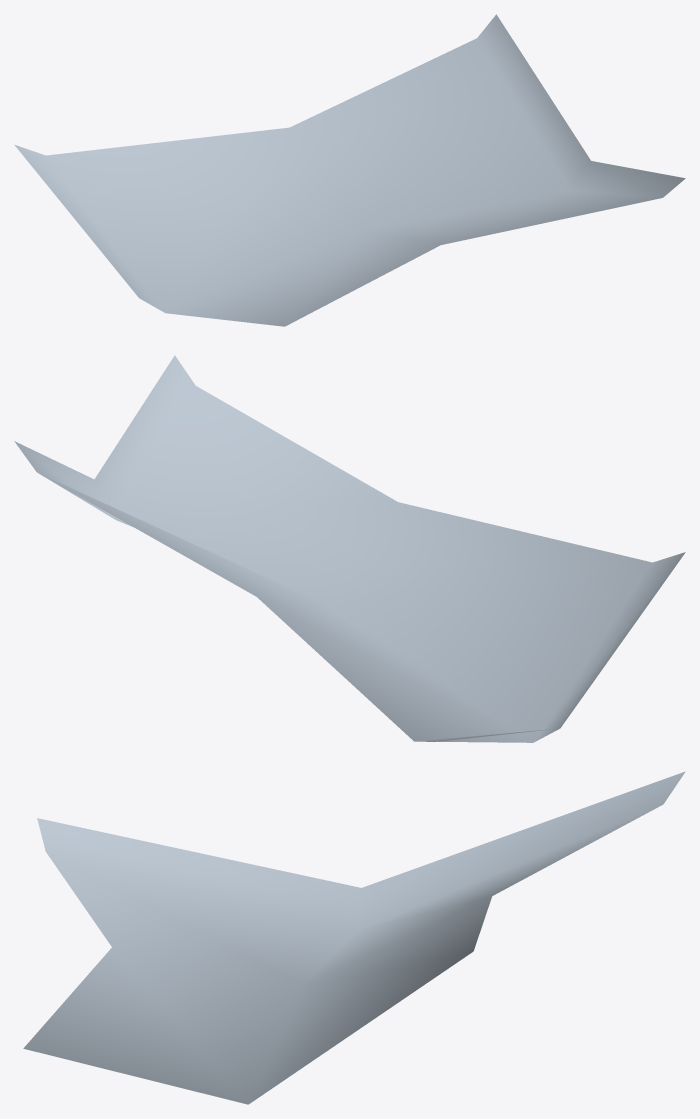
The model's file is intersesamoid-ligament-r.glb.
3 views of the same model, one above another, from view 1: azimuth 30°, elevation 25°; view 2: azimuth 150°, elevation 25°; view 3: azimuth 270°, elevation 25° (orthographic). The views are drawn at different scales.
Visible parts, largest first — view 1: Intersesamoid ligament.r; view 2: Intersesamoid ligament.r; view 3: Intersesamoid ligament.r.
Part boxes in pixels (x1,y1,x2,y2): Intersesamoid ligament.r: (14, 14, 685, 326); Intersesamoid ligament.r: (14, 355, 685, 742); Intersesamoid ligament.r: (23, 771, 685, 1104).
Size of the model in its own units: 0.00888 by 0.00345 by 0.00816.
